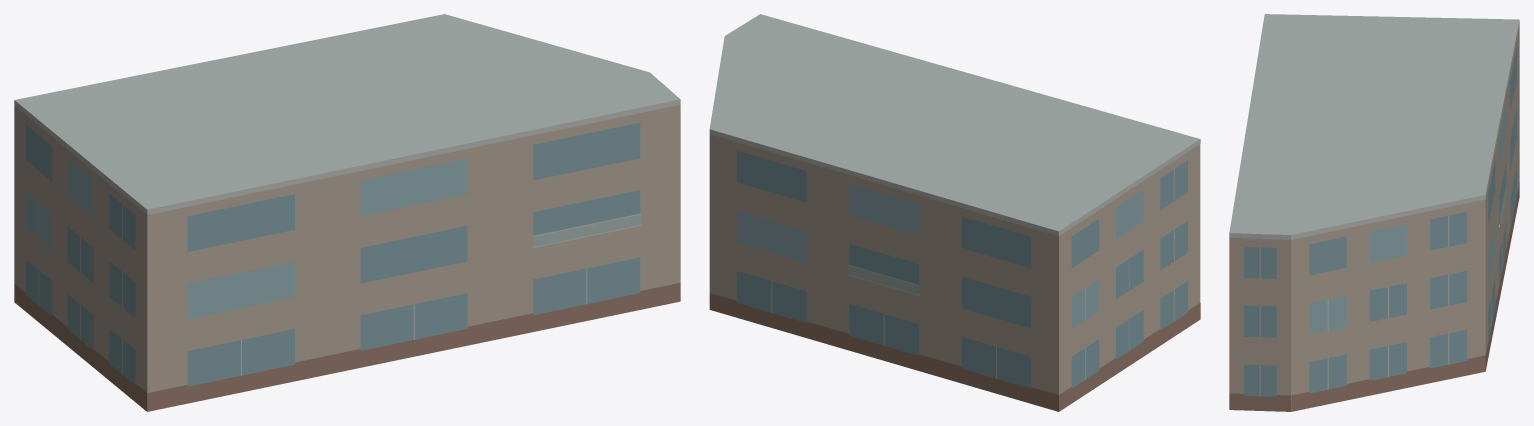
Rendered from survey-upis-32594090.glb.
The picture shows the model from 3 angles, left to right: view 1: azimuth 30°, elevation 25°; view 2: azimuth 150°, elevation 25°; view 3: azimuth 270°, elevation 25°; orthographic projection. The views are drawn at different scales.
Visible parts, largest first — view 1: survey-upis-32594090.tmp; view 2: survey-upis-32594090.tmp; view 3: survey-upis-32594090.tmp.
Part boxes in pixels (x1,y1,x2,y2): survey-upis-32594090.tmp: [14, 14, 680, 411]; survey-upis-32594090.tmp: [709, 14, 1200, 411]; survey-upis-32594090.tmp: [1229, 14, 1519, 411].
Size of the model in its own units: 24.54 by 9.15 by 13.63.
